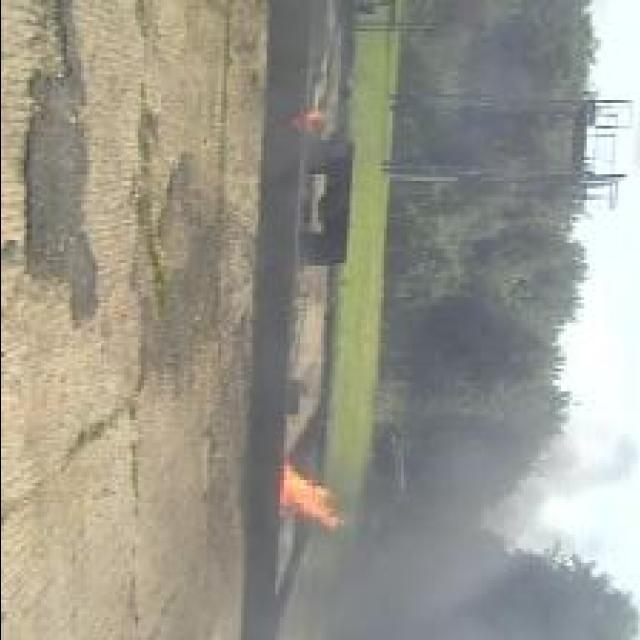Fire: (280, 467, 340, 527)
